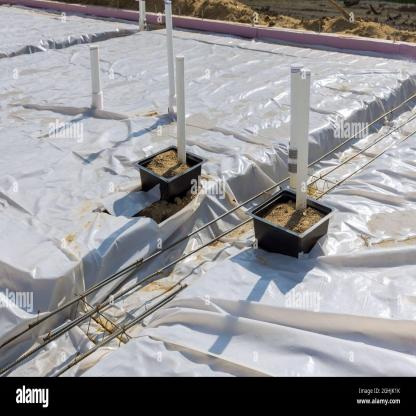PVC: (290, 62, 311, 212), (176, 55, 186, 165), (164, 1, 175, 96), (90, 43, 101, 92)
